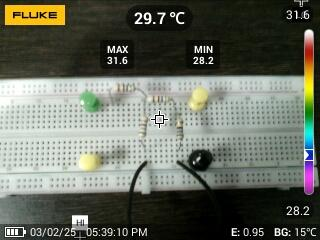resistor: (143, 93, 173, 105), (111, 83, 139, 94), (174, 116, 185, 144), (138, 111, 147, 138)
